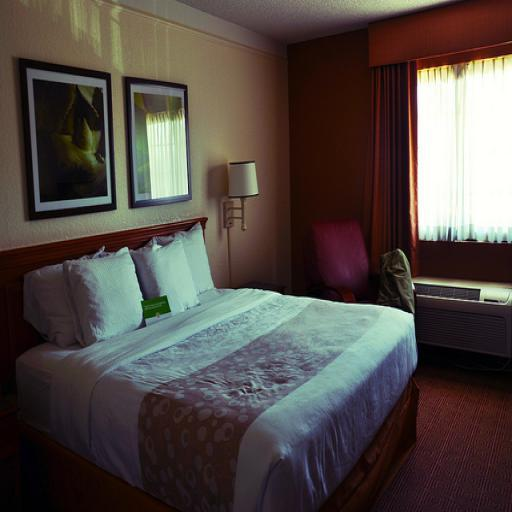bed: (5, 197, 441, 512)
